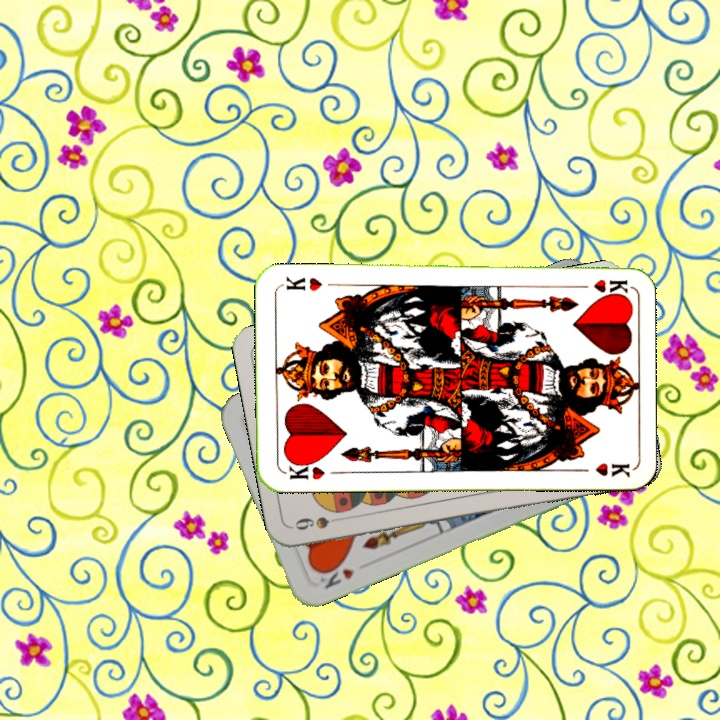HK: (315, 558, 357, 592), (570, 275, 629, 296), (281, 457, 327, 483)
S9: (290, 512, 336, 533)
